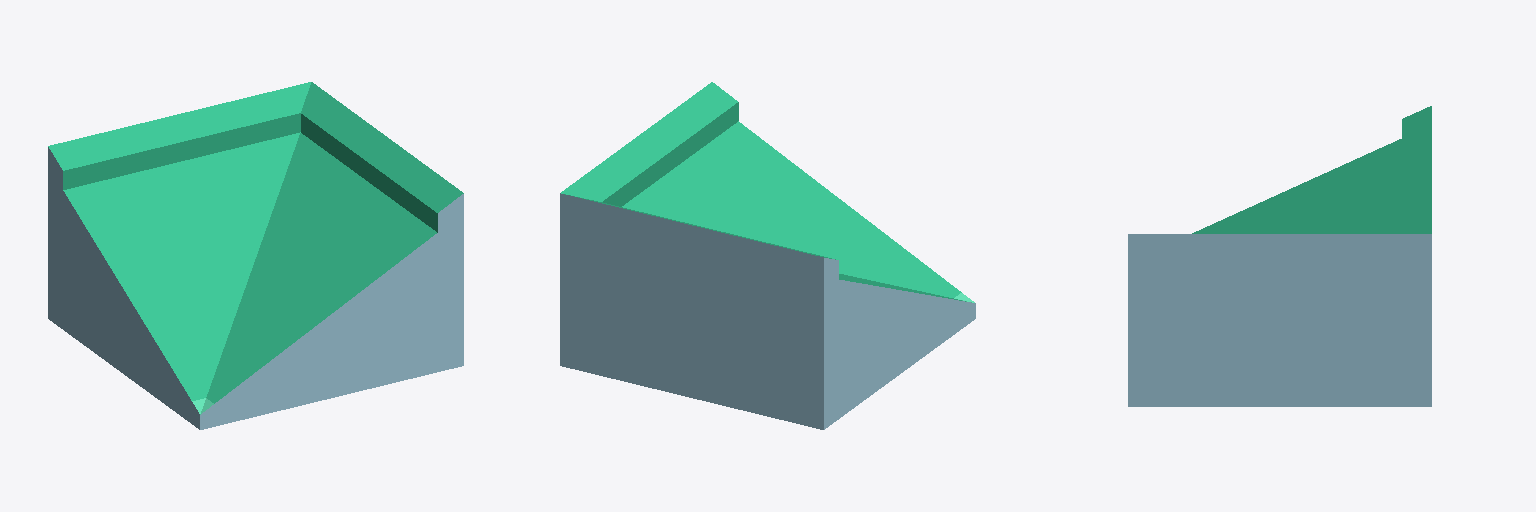
The model's file is roofCornerInner.obj.
The picture shows the model from 3 angles: view 1: azimuth 30°, elevation 25°; view 2: azimuth 150°, elevation 25°; view 3: azimuth 270°, elevation 25°; orthographic projection.
Visible parts, largest first — view 1: roofCornerInner; view 2: roofCornerInner; view 3: roofCornerInner.
Boxes of the visible parts, x1=… form: roofCornerInner: x1=48, y1=82, x2=463, y2=429; roofCornerInner: x1=560, y1=82, x2=975, y2=429; roofCornerInner: x1=1128, y1=106, x2=1431, y2=406.
Bounding box in the file's own units: 1 × 0.6259 × 1.